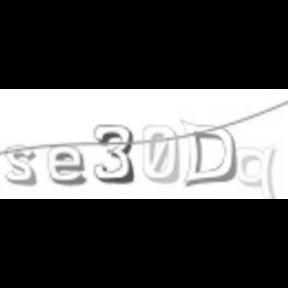0: (140, 123, 182, 185)
3: (92, 122, 136, 184)
D: (181, 118, 237, 190)
e: (48, 144, 88, 188)
q: (235, 144, 279, 200)
s: (4, 142, 38, 186)
